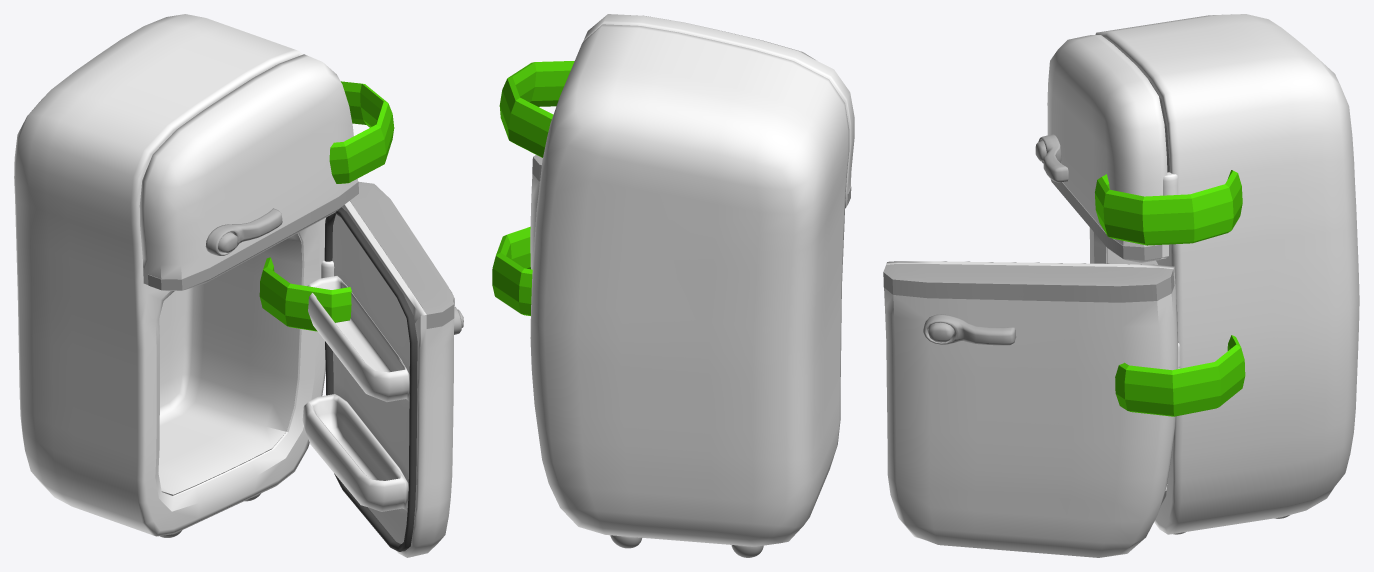
The model's file is fridge_door_open.fbx.
The picture shows the model from 3 angles, left to right: view 1: azimuth 30°, elevation 25°; view 2: azimuth 150°, elevation 25°; view 3: azimuth 270°, elevation 25°; orthographic projection. The views are drawn at different scales.
Parts seen in each view (by area): view 1: Body, polySurface40, polySurface44, Cntrl_up, Cntrl_dwn; view 2: Body, Cntrl_up, polySurface44, Cntrl_dwn, polySurface40; view 3: Body, polySurface40, polySurface44, Cntrl_up, Cntrl_dwn.
Boxes of the visible parts, <box> form: Body: <box>14,14,325,536</box>; polySurface40: <box>302,182,463,557</box>; polySurface44: <box>139,54,358,291</box>; Cntrl_up: <box>329,81,394,183</box>; Cntrl_dwn: <box>259,257,351,331</box>; Body: <box>530,24,849,546</box>; Cntrl_up: <box>499,61,574,157</box>; polySurface44: <box>583,14,854,208</box>; Cntrl_dwn: <box>492,226,532,315</box>; polySurface40: <box>530,155,542,269</box>; Body: <box>1089,14,1359,534</box>; polySurface40: <box>883,261,1180,557</box>; polySurface44: <box>1035,35,1177,262</box>; Cntrl_up: <box>1095,170,1242,245</box>; Cntrl_dwn: <box>1115,335,1245,416</box>.
Size of the model in its own units: 6.52 by 8.19 by 7.59.
